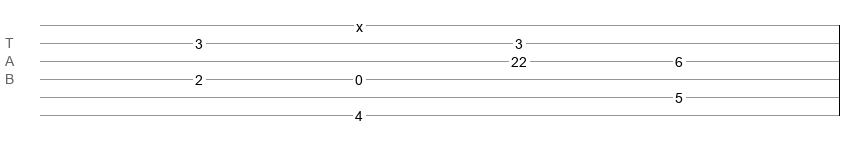0: (355, 72, 363, 82)
2: (195, 72, 203, 82)
22: (511, 54, 527, 64)
3: (195, 36, 203, 46), (515, 36, 523, 46)
4: (355, 108, 363, 118)
5: (675, 90, 683, 100)
6: (675, 54, 683, 64)
x: (356, 19, 363, 27)
